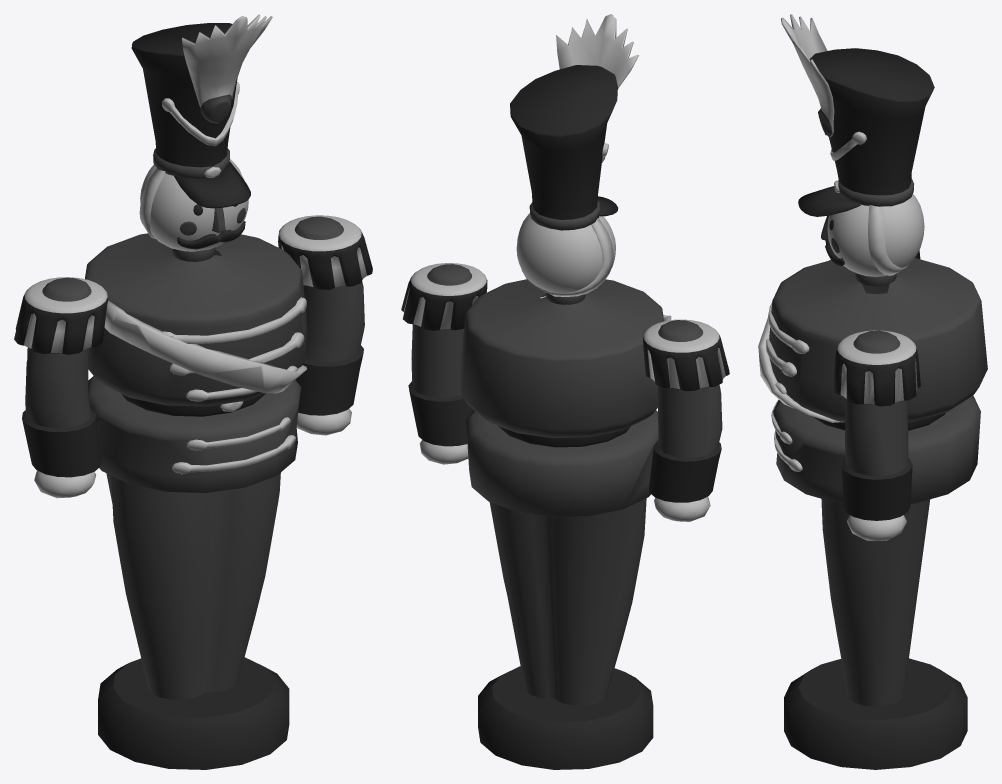
Rendered from Soldier_BN_01.fbx.
3 views of the same model, side by side, from view 1: azimuth 30°, elevation 25°; view 2: azimuth 150°, elevation 25°; view 3: azimuth 270°, elevation 25° (orthographic). The views are drawn at different scales.
Visible parts, largest first — view 1: Soldier_BN_01.001; view 2: Soldier_BN_01.001; view 3: Soldier_BN_01.001.
Part boxes in pixels (x1=…): Soldier_BN_01.001: x1=14, y1=14, x2=372, y2=769; Soldier_BN_01.001: x1=401, y1=14, x2=729, y2=769; Soldier_BN_01.001: x1=758, y1=14, x2=987, y2=769.
Size of the model in its own units: 5.41 by 11.17 by 3.26.
